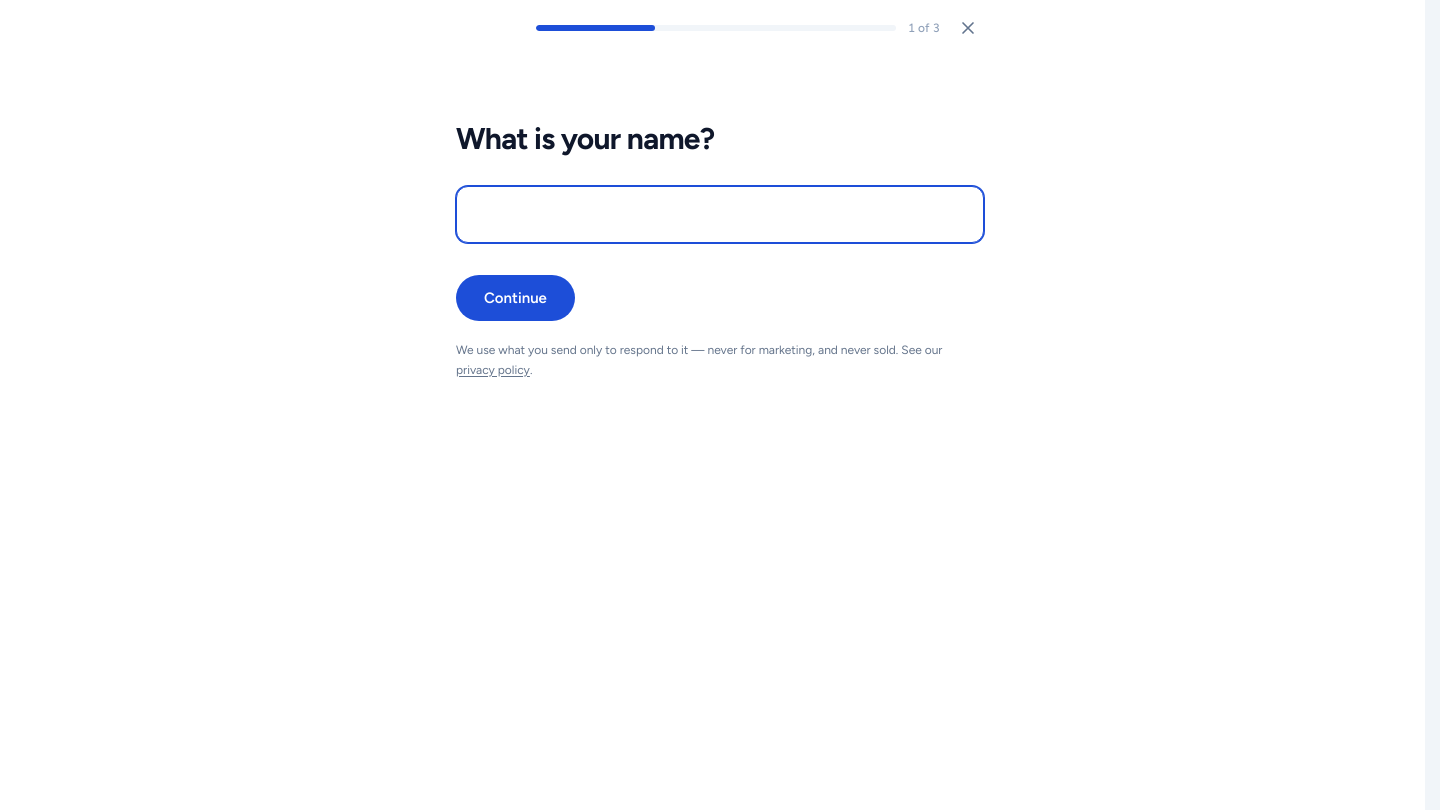
Test: Wizard — step flow › a single-select step auto-advances after a brief highlight, with no Continue button
The image size is (1440, 810).
Type "Rivka" into the field at [720, 214], box [456,186,984,242]
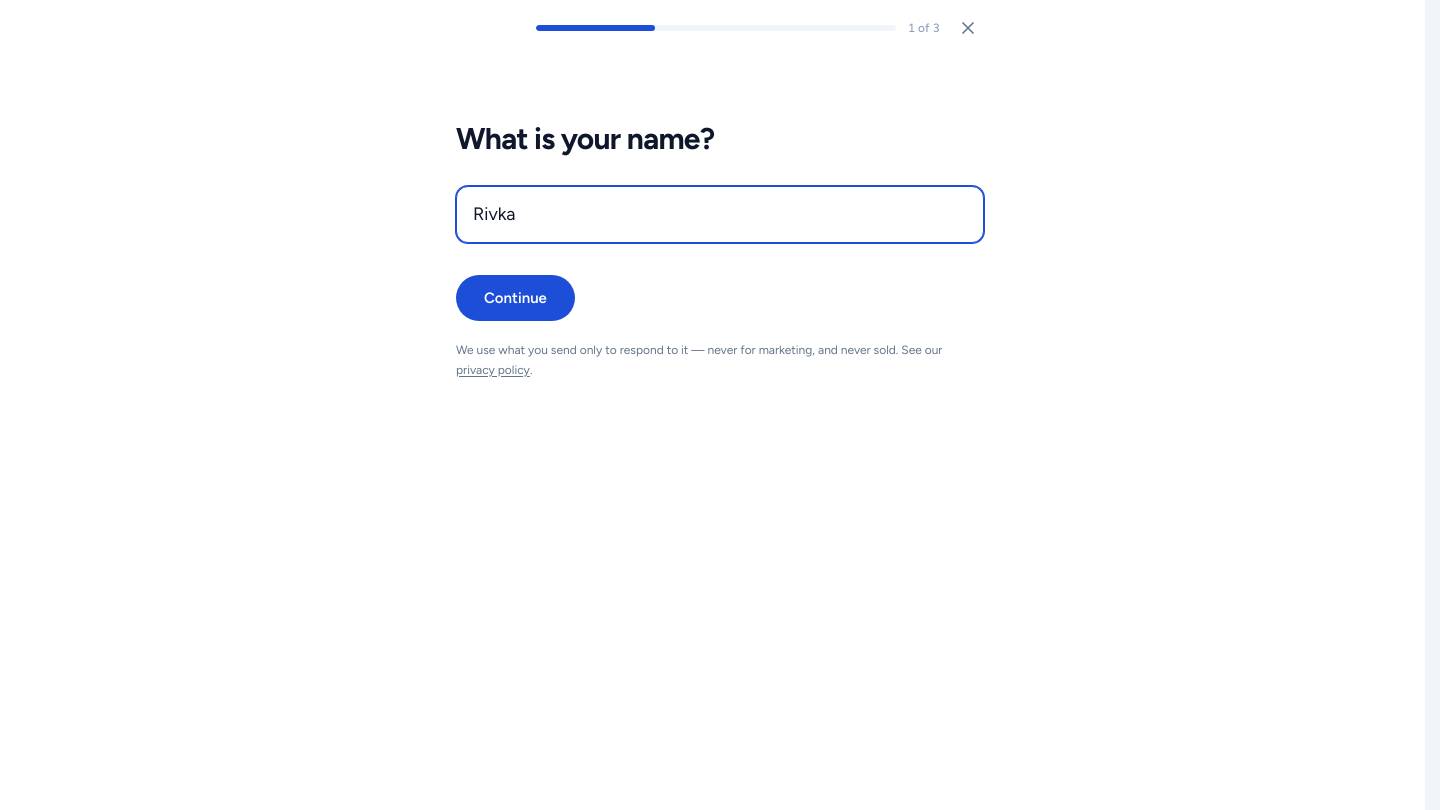
Click the button "Continue" at [515, 298], box [456,274,575,321]
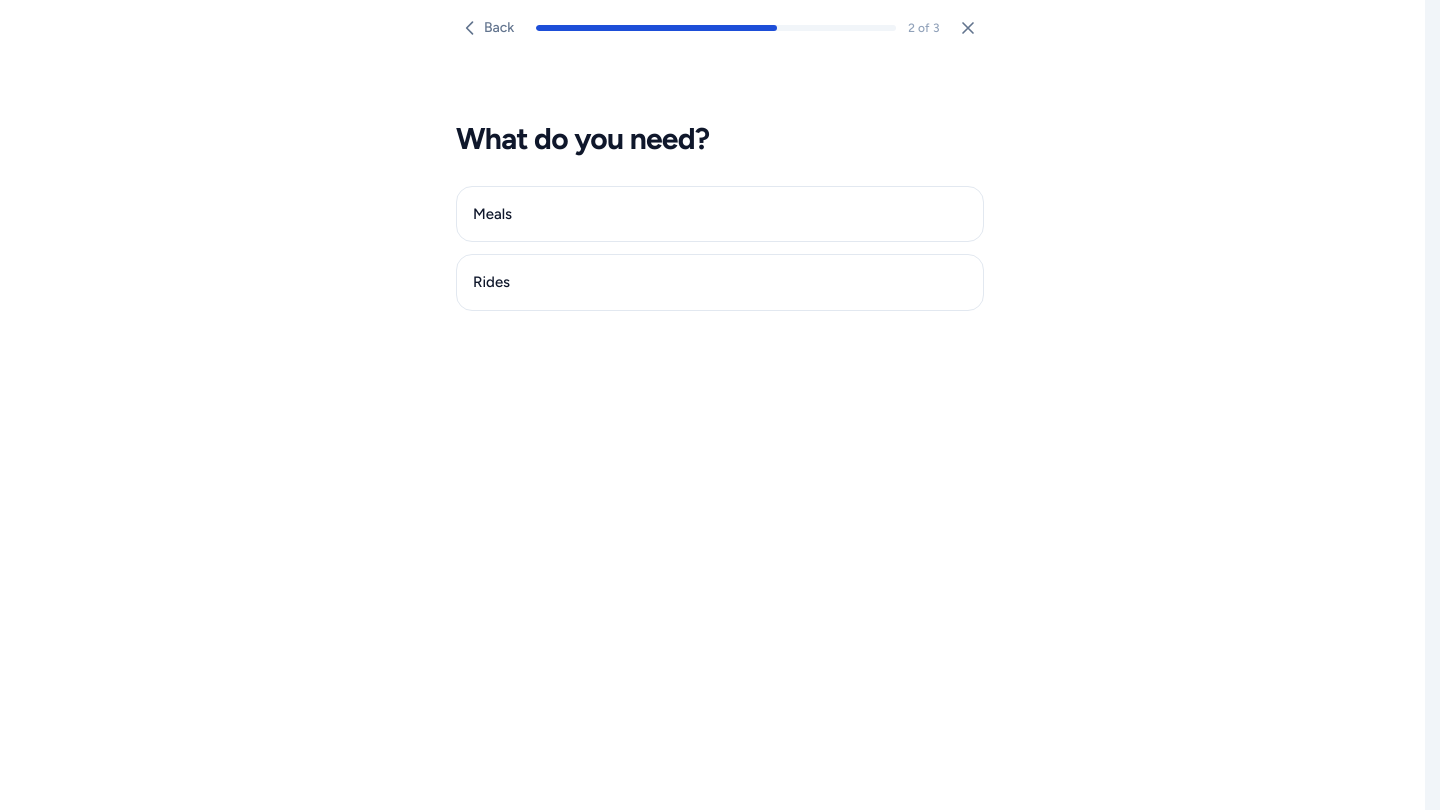
Now the button "Continue" is gone
Click the button "Meals" at [493, 214], box [456,186,984,242]
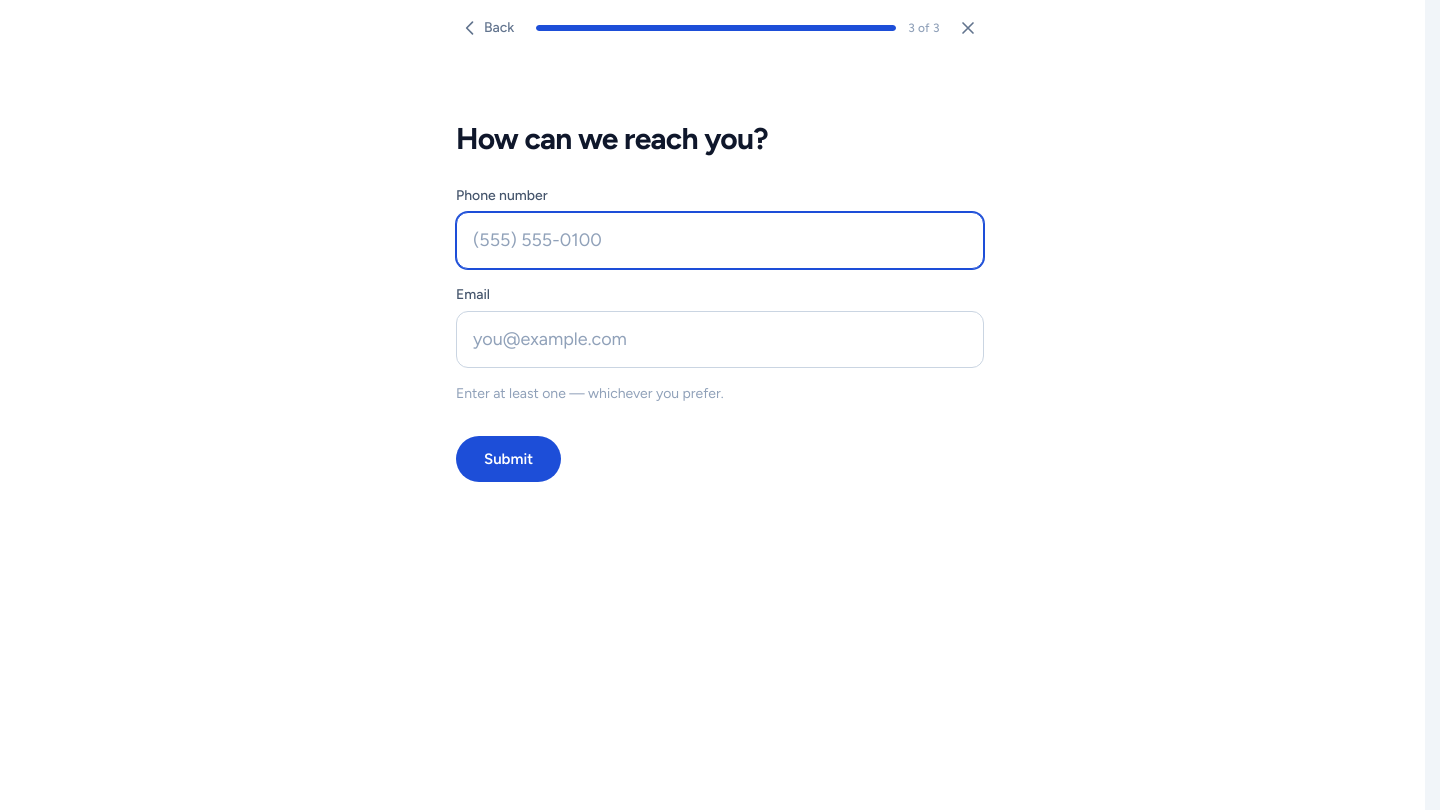
Now the heading "How can we reach you?" is shown, box [456,120,768,157]
